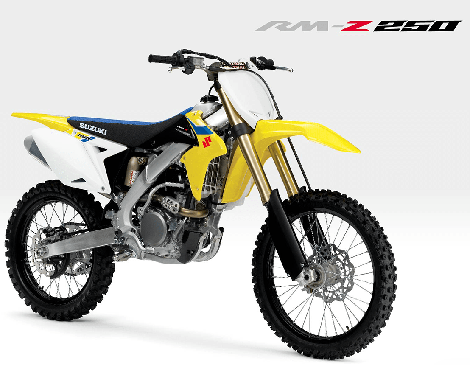motorbike: (4, 49, 397, 361)
